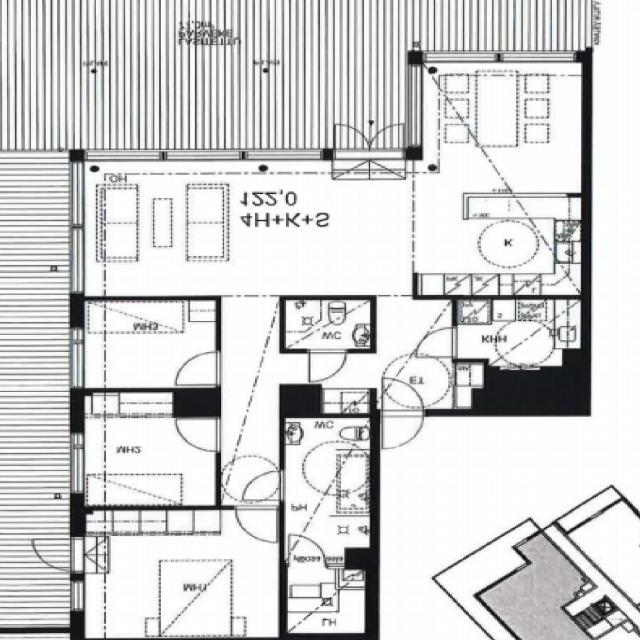door: (27, 540, 83, 572), (382, 378, 423, 418), (382, 410, 423, 450), (174, 354, 220, 386), (368, 121, 404, 160), (236, 506, 275, 542), (333, 121, 368, 160), (176, 421, 220, 451), (309, 349, 346, 384), (416, 329, 458, 358), (244, 473, 285, 500), (290, 533, 324, 565)
